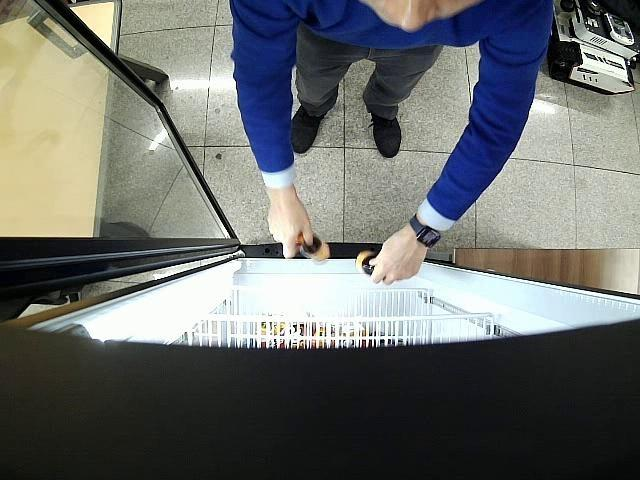17_vita500: (296, 232, 330, 263), (356, 250, 377, 276)
